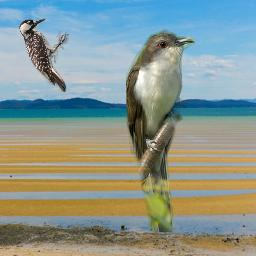Cuckoo: (126, 26, 195, 232)
Woodpecker: (19, 18, 69, 92)
